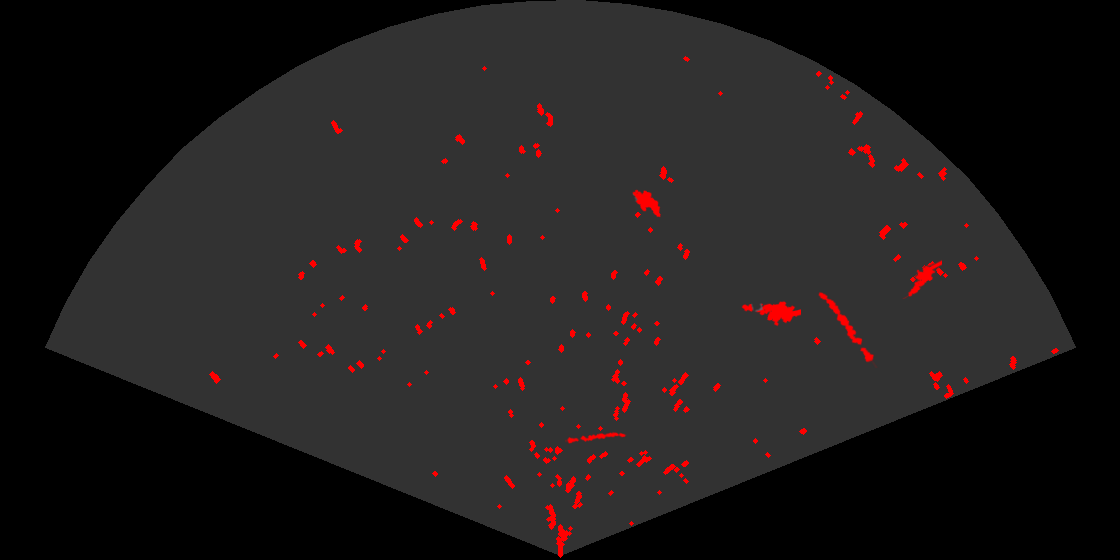AUV: (631, 188, 662, 219)
chain: (817, 290, 879, 368), (565, 430, 627, 445)
frogman: (740, 300, 801, 328), (901, 259, 942, 299)
